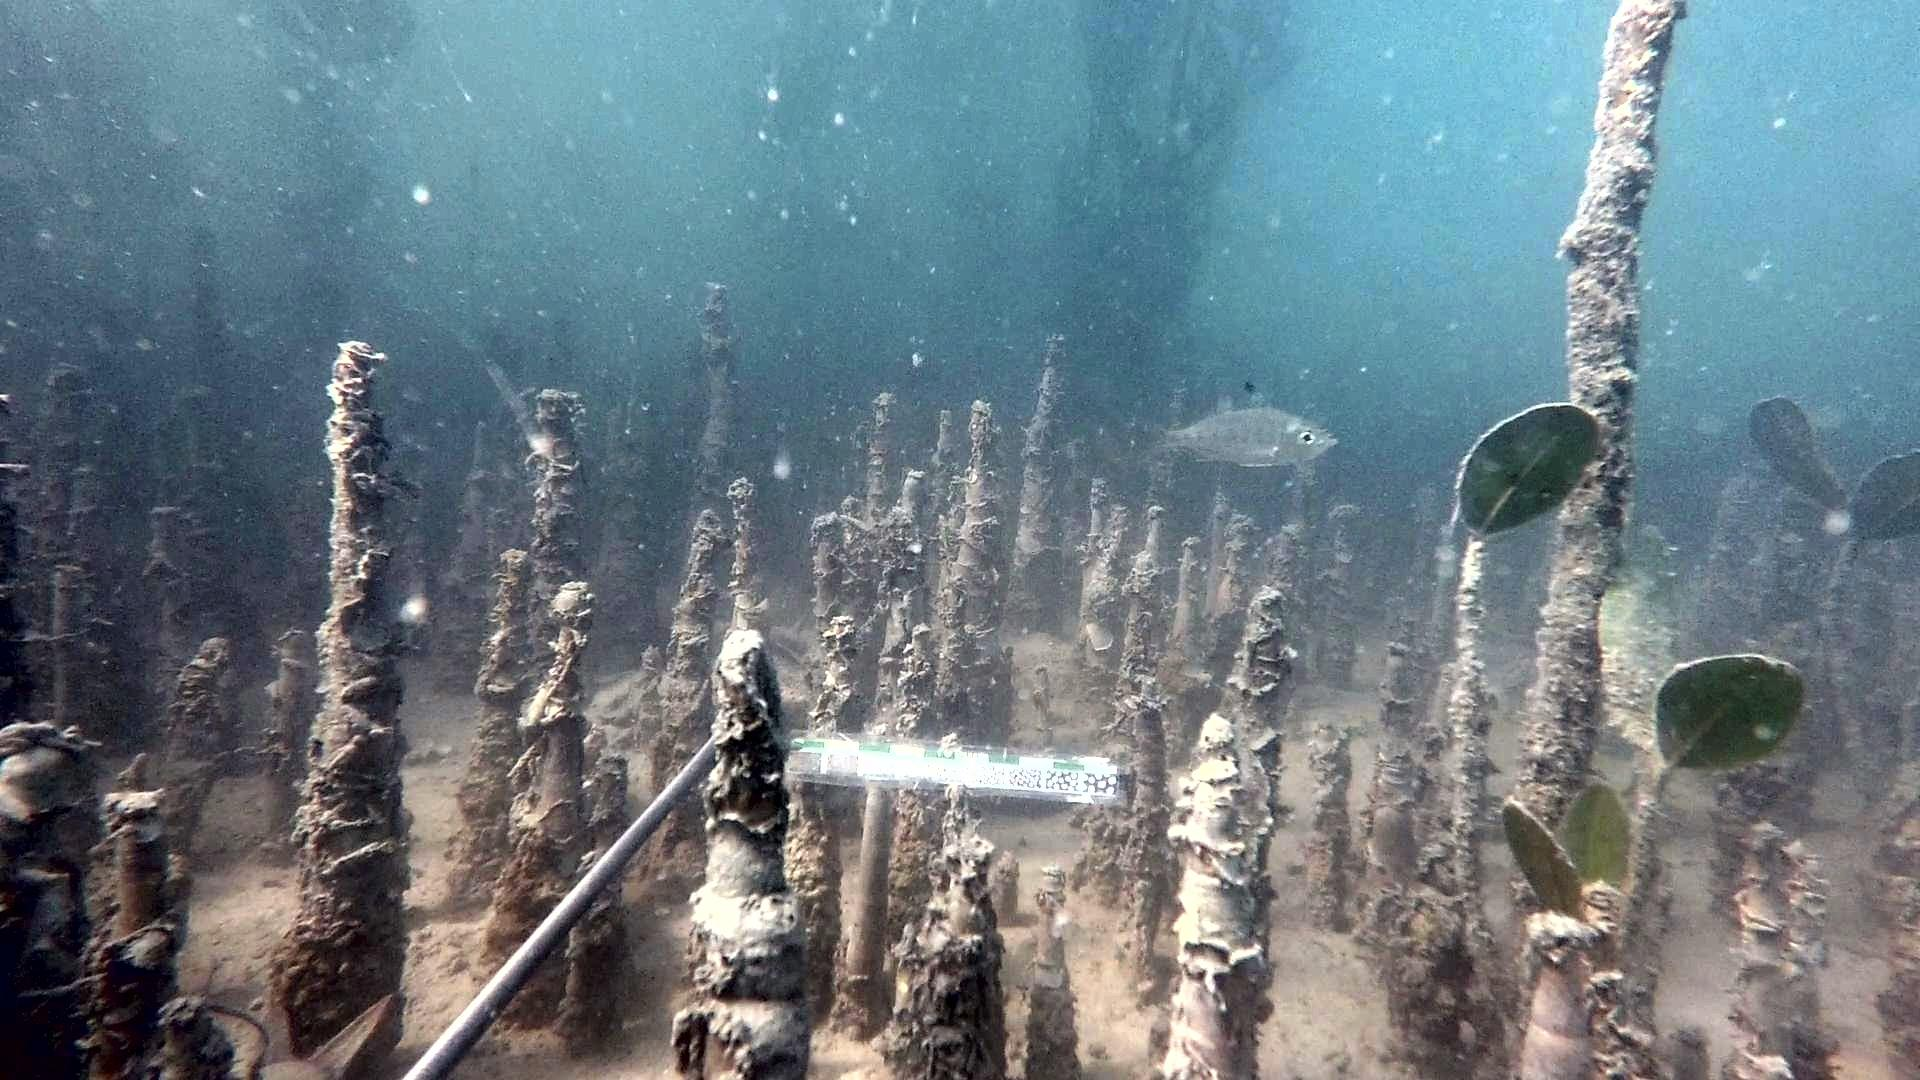gerres: (1134, 380, 1340, 471)
